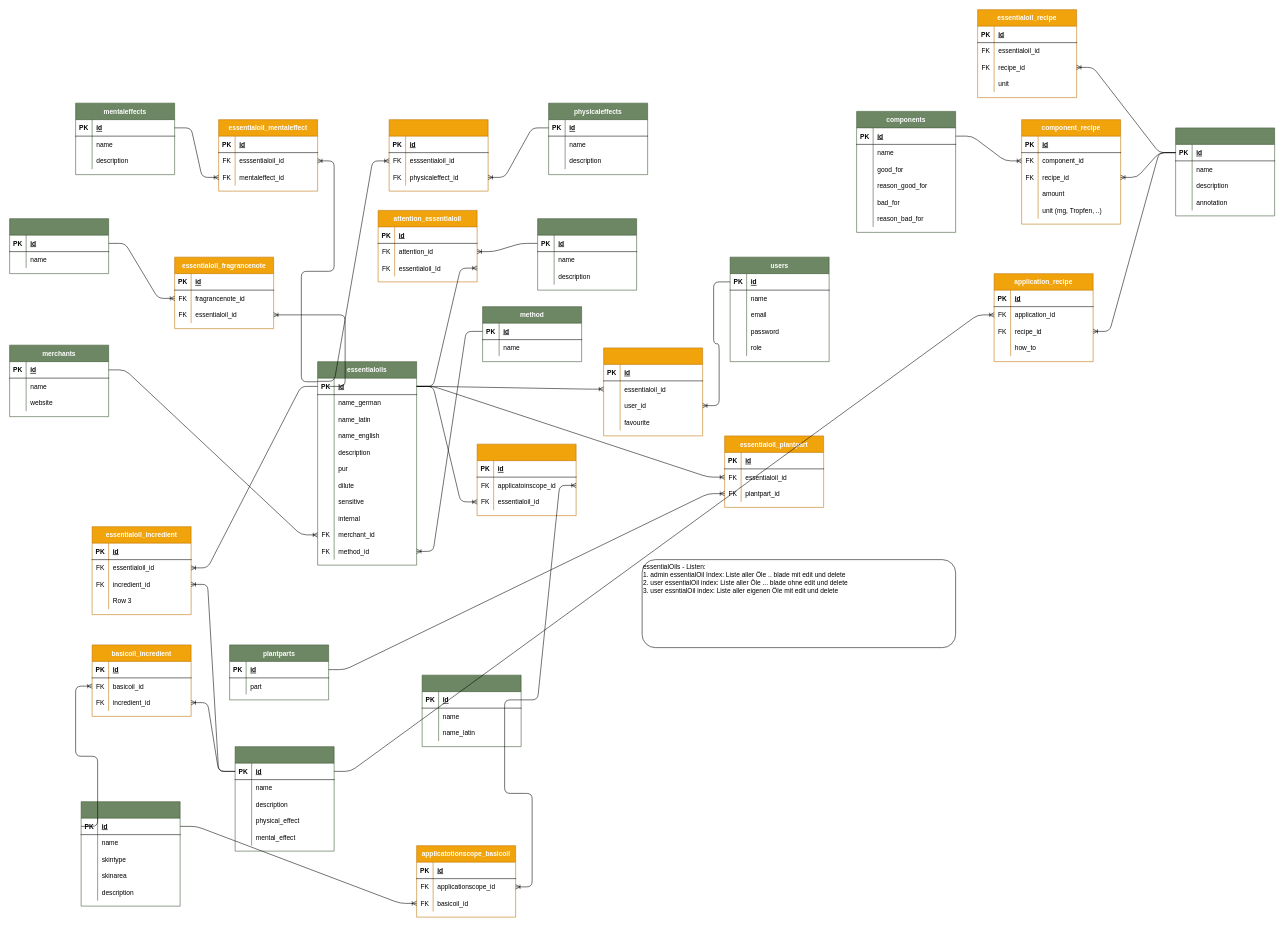
This 1284x927 diagram has some shape labels left out. The box of each missing label's shape, as (x1, y1, x2, y2) in pixels:
applicationscopes: (422, 675, 521, 747)
applicatonscope_essentialoil: (477, 444, 576, 516)
attentions: (537, 218, 637, 290)
basicoils: (81, 801, 180, 906)
essentialoil_physicaleffect: (389, 119, 488, 191)
essentialoil_user: (603, 347, 703, 436)
fragrancenotes (Geruchsnote): (9, 218, 109, 274)
incredients: (235, 746, 334, 851)
recipes: (1175, 127, 1275, 216)
